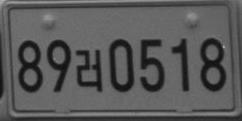0: (108, 38, 135, 93)
1: (168, 37, 196, 92)
5: (139, 38, 166, 92)
8: (199, 36, 227, 92), (16, 39, 43, 92)
9: (46, 38, 71, 92)
러: (74, 48, 102, 92)
